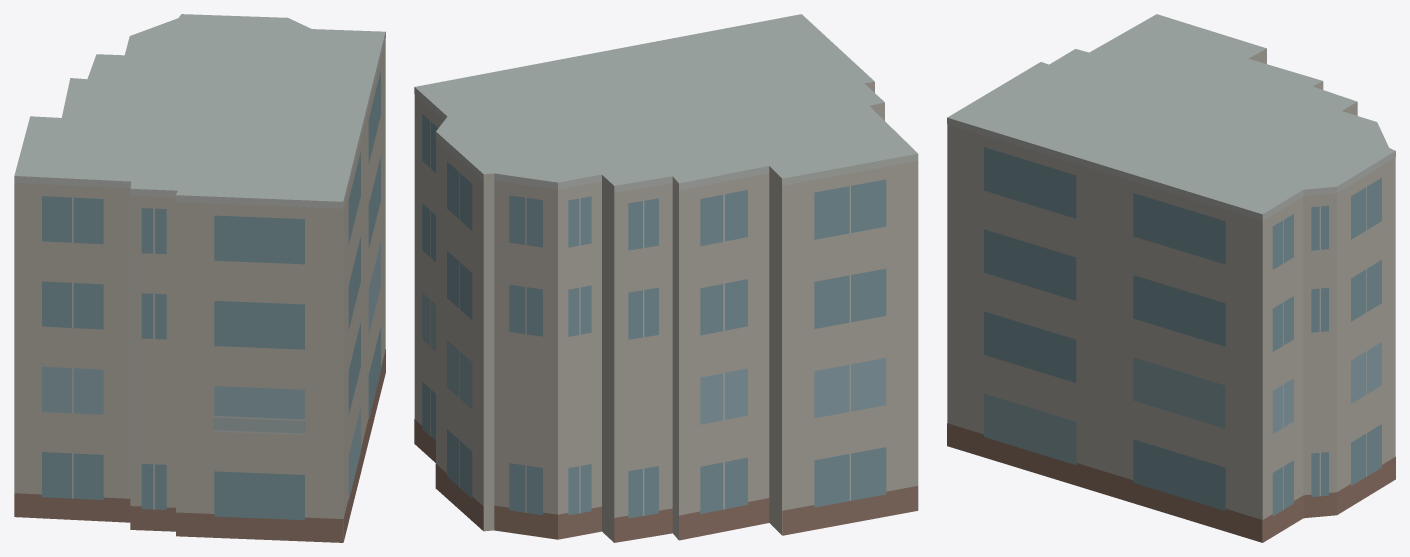
Rendered from survey-upis-32662424.glb.
3 renders of one model, left to right at view 1: azimuth 30°, elevation 25°; view 2: azimuth 150°, elevation 25°; view 3: azimuth 270°, elevation 25°, orthographic. The views are drawn at different scales.
Visible parts, largest first — view 1: survey-upis-32662424.tmp; view 2: survey-upis-32662424.tmp; view 3: survey-upis-32662424.tmp.
Boxes of the visible parts, x1,y1,x2,y2 form: survey-upis-32662424.tmp: (14,14,385,542); survey-upis-32662424.tmp: (414,14,918,542); survey-upis-32662424.tmp: (947,14,1395,542).
Bounding box in the file's own units: 15.97 × 12.2 × 15.11.
